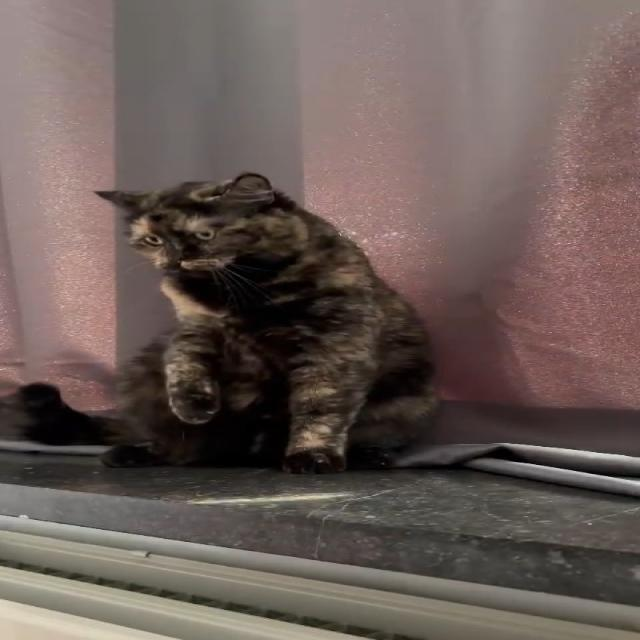authorized: (91, 171, 441, 475)
